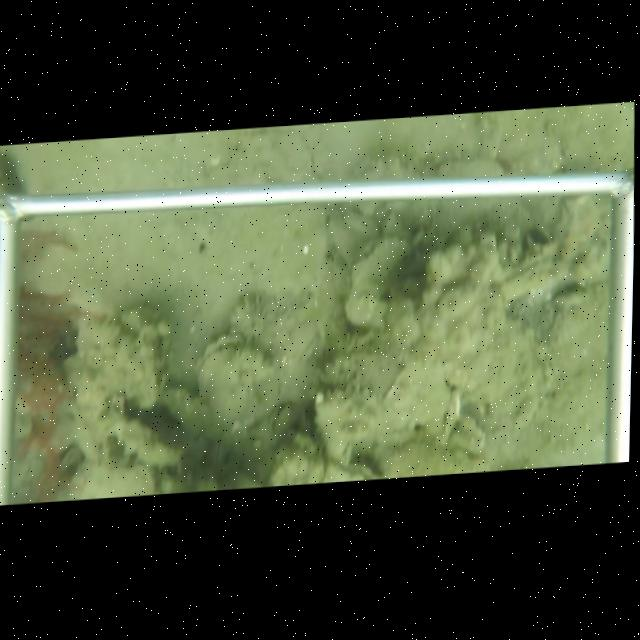Oyster-Closed: (192, 331, 282, 429), (343, 231, 415, 329), (126, 320, 173, 416)
